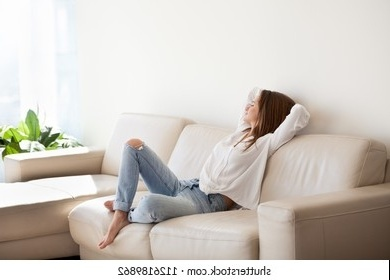not_fallen: (92, 86, 319, 249)
